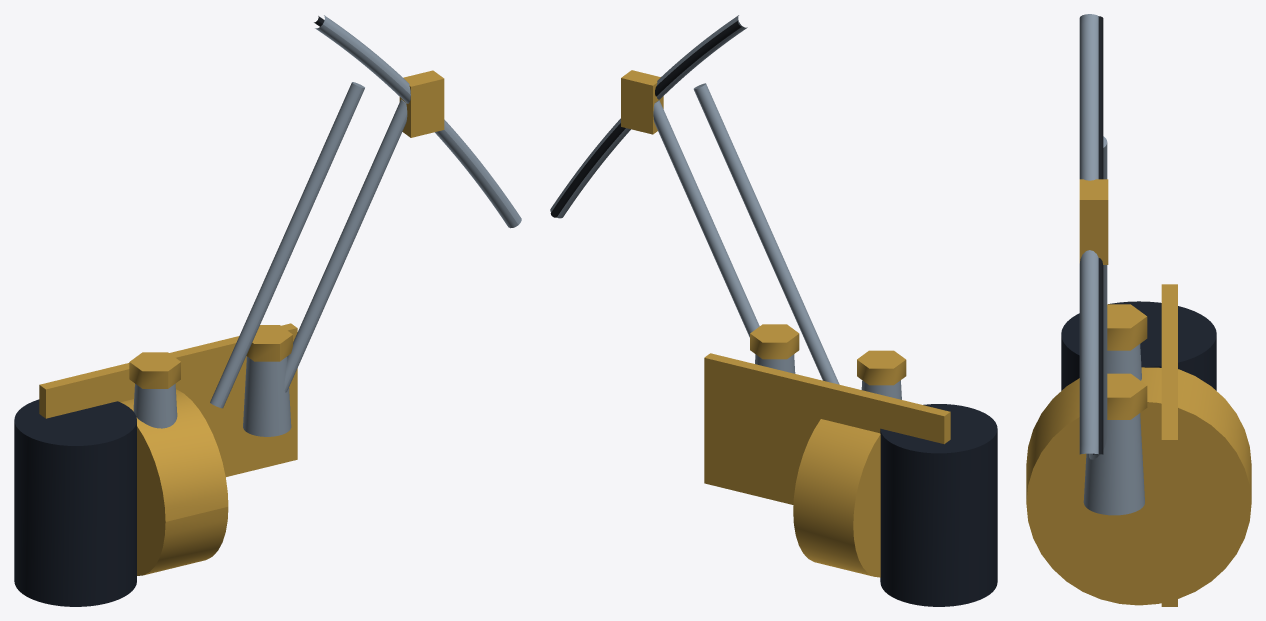
File: mecanismo_pantografico_limpador.glb
The picture shows the model from 3 angles, left to right: view 1: azimuth 30°, elevation 25°; view 2: azimuth 150°, elevation 25°; view 3: azimuth 270°, elevation 25°; orthographic projection. The views are drawn at different scales.
Visible parts, largest first — view 1: MecanismoPantograficoLimpador; view 2: MecanismoPantograficoLimpador; view 3: MecanismoPantograficoLimpador.
Boxes of the visible parts, x1,y1,x2,y2 form: MecanismoPantograficoLimpador: (14,15,521,606); MecanismoPantograficoLimpador: (550,15,997,606); MecanismoPantograficoLimpador: (1026,14,1251,606).
Size of the model in its own units: 3.42 by 3.59 by 1.1.
